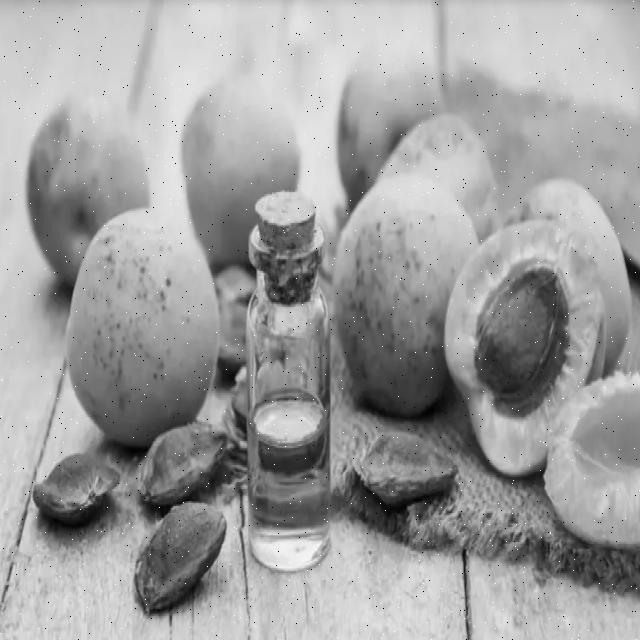kayisi: (64, 205, 219, 444), (447, 218, 584, 469), (336, 178, 481, 410), (27, 87, 151, 280), (182, 73, 299, 255), (333, 29, 442, 186), (561, 362, 640, 561), (380, 115, 495, 235)
kayisi cekirdegi: (464, 264, 568, 406), (133, 503, 228, 610), (353, 423, 460, 518), (24, 448, 123, 530), (136, 425, 227, 496)
